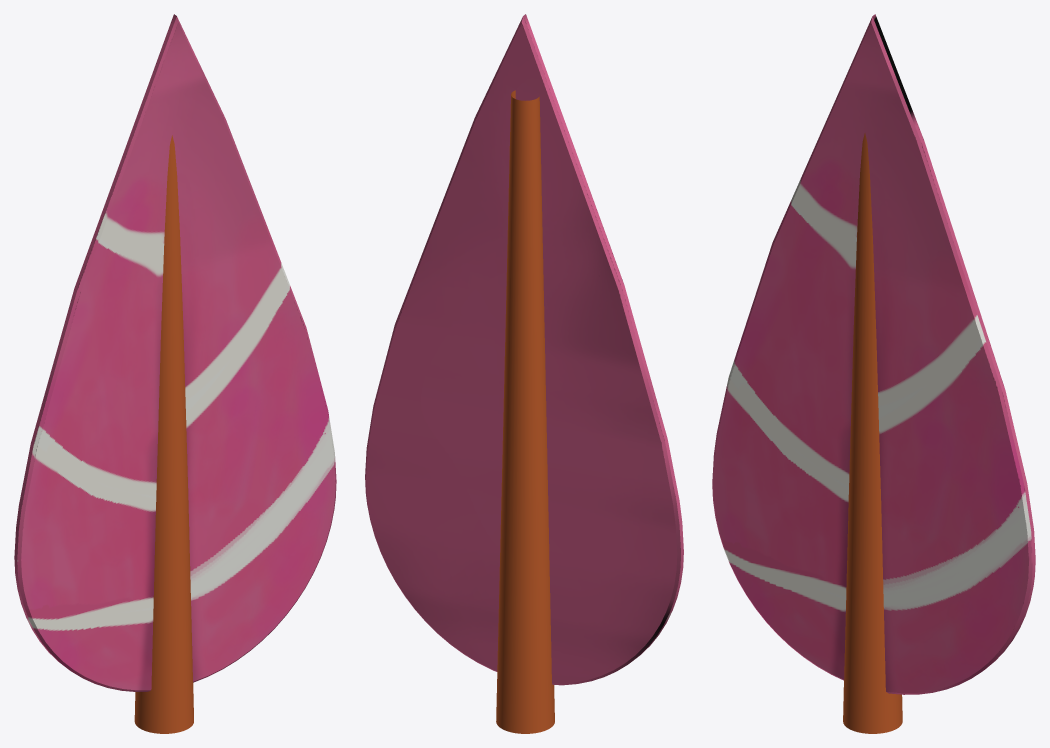
The model's file is tree_spruce.fbx.
The picture shows the model from 3 angles, left to right: view 1: azimuth 30°, elevation 25°; view 2: azimuth 150°, elevation 25°; view 3: azimuth 330°, elevation 25°; orthographic projection.
Visible parts, largest first — view 1: tree_spruce, trunk; view 2: tree_spruce, trunk; view 3: tree_spruce, trunk.
Boxes of the visible parts, <box> form: tree_spruce: <box>14,14,336,691</box>; trunk: <box>134,135,193,733</box>; tree_spruce: <box>365,14,683,685</box>; trunk: <box>496,90,554,733</box>; tree_spruce: <box>712,14,1035,694</box>; trunk: <box>843,133,902,733</box>.
Bounding box in the file's own units: 130 × 275 × 20.92.
